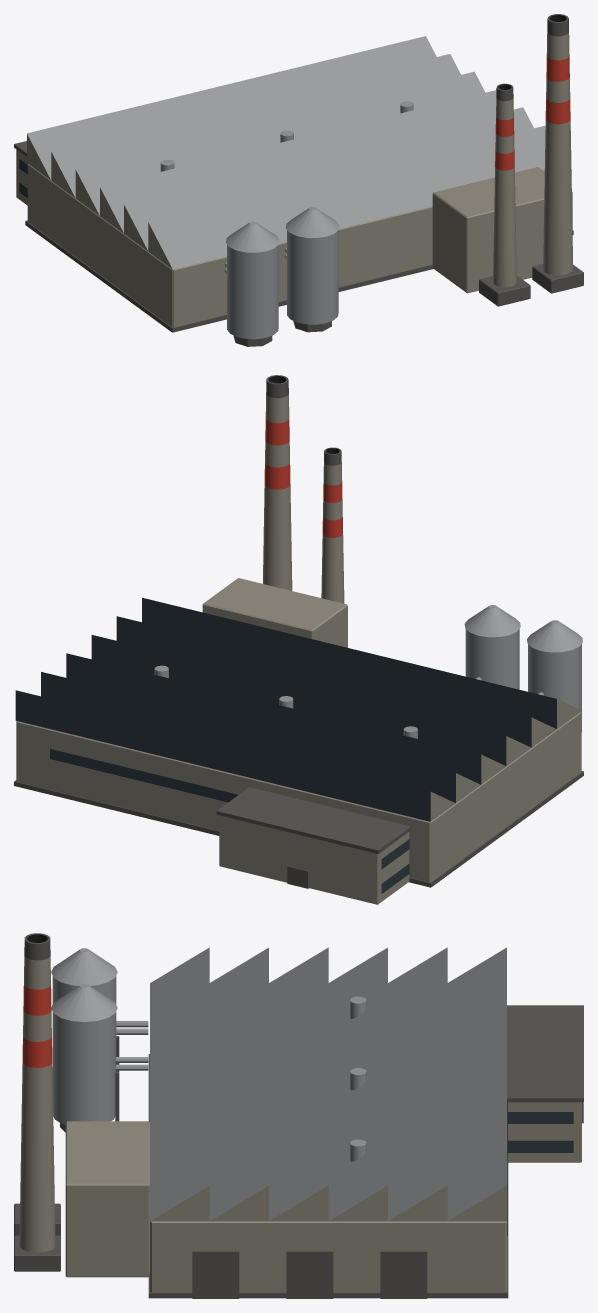
The model's file is factory.glb.
The picture shows the model from 3 angles, top to bottom: view 1: azimuth 30°, elevation 25°; view 2: azimuth 150°, elevation 25°; view 3: azimuth 270°, elevation 25°; orthographic projection. The views are drawn at different scales.
Parts seen in each view (by area): view 1: factory; view 2: factory; view 3: factory.
Part boxes in pixels (left/top/right/bottom): factory: left=14, top=14, right=583, bottom=346; factory: left=14, top=375, right=583, bottom=904; factory: left=14, top=933, right=583, bottom=1298.
Bounding box in the file's own units: 60.4 × 38 × 60.7.
